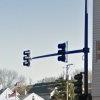Traffic light: (18, 39, 75, 65)
